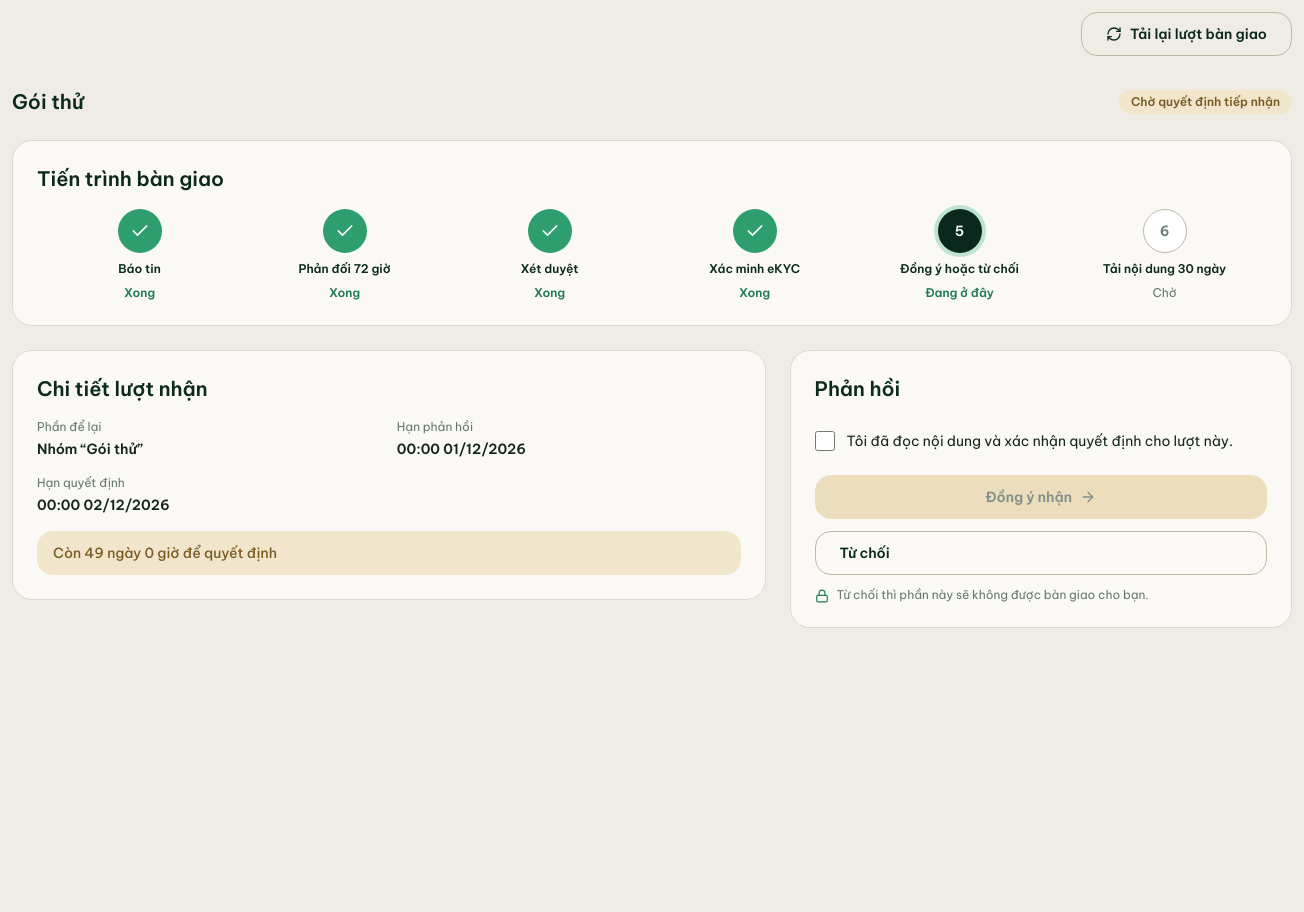
requires an explicit receiving decision and preserves absence of grant after server rejection
The width and height of the screenshot is (1304, 912).
Expected: the button "Đồng ý nhận" is disabled, [815,475,1267,519]
What coordinates should you click on to do the following:
click the checkbox
I would click on:
 (825, 441)
Its box is [815,431,835,451].
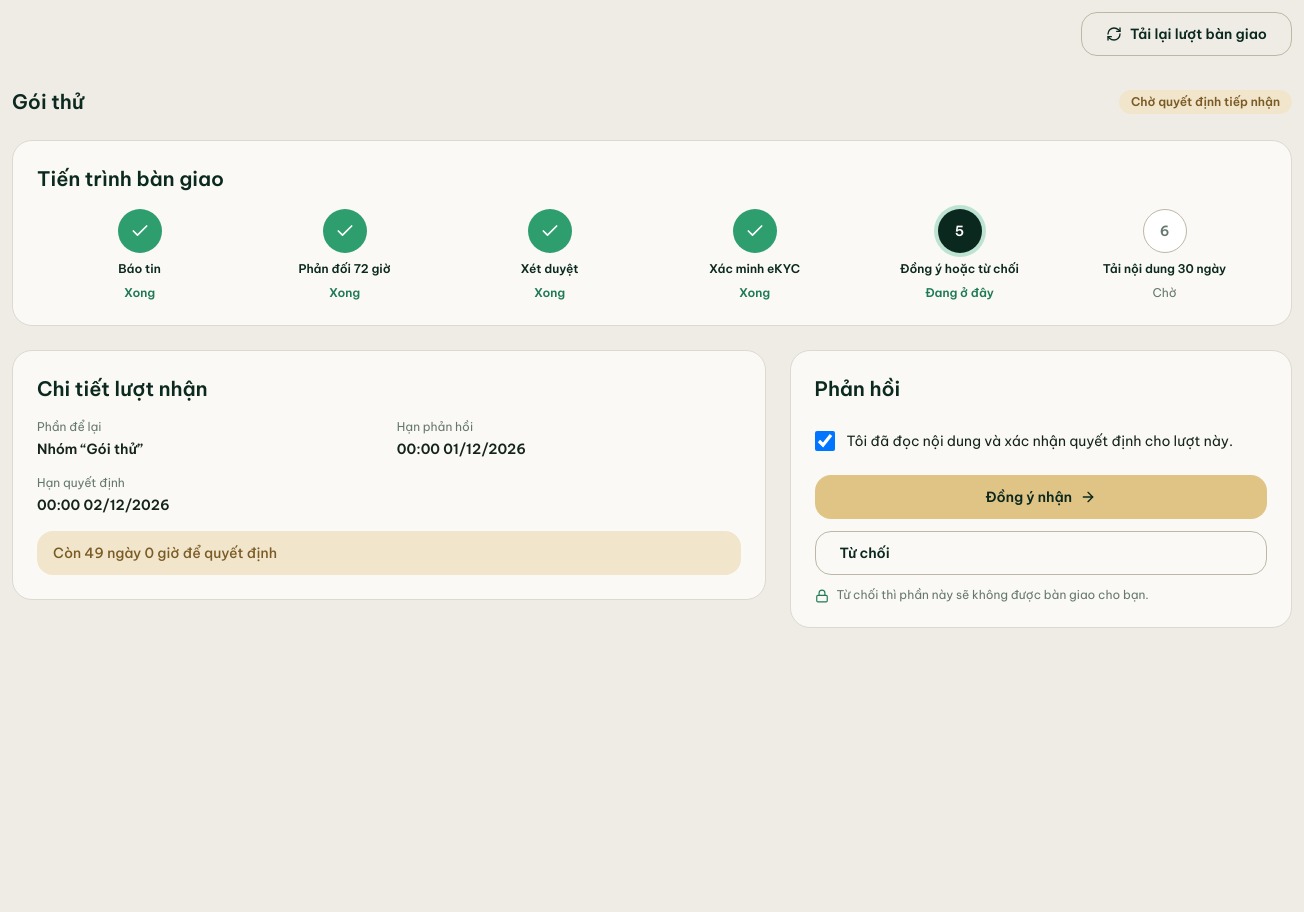
What coordinates should you click on to do the following:
click the button "Đồng ý nhận"
I would click on:
 (1041, 497)
Its box is [815,475,1267,519].
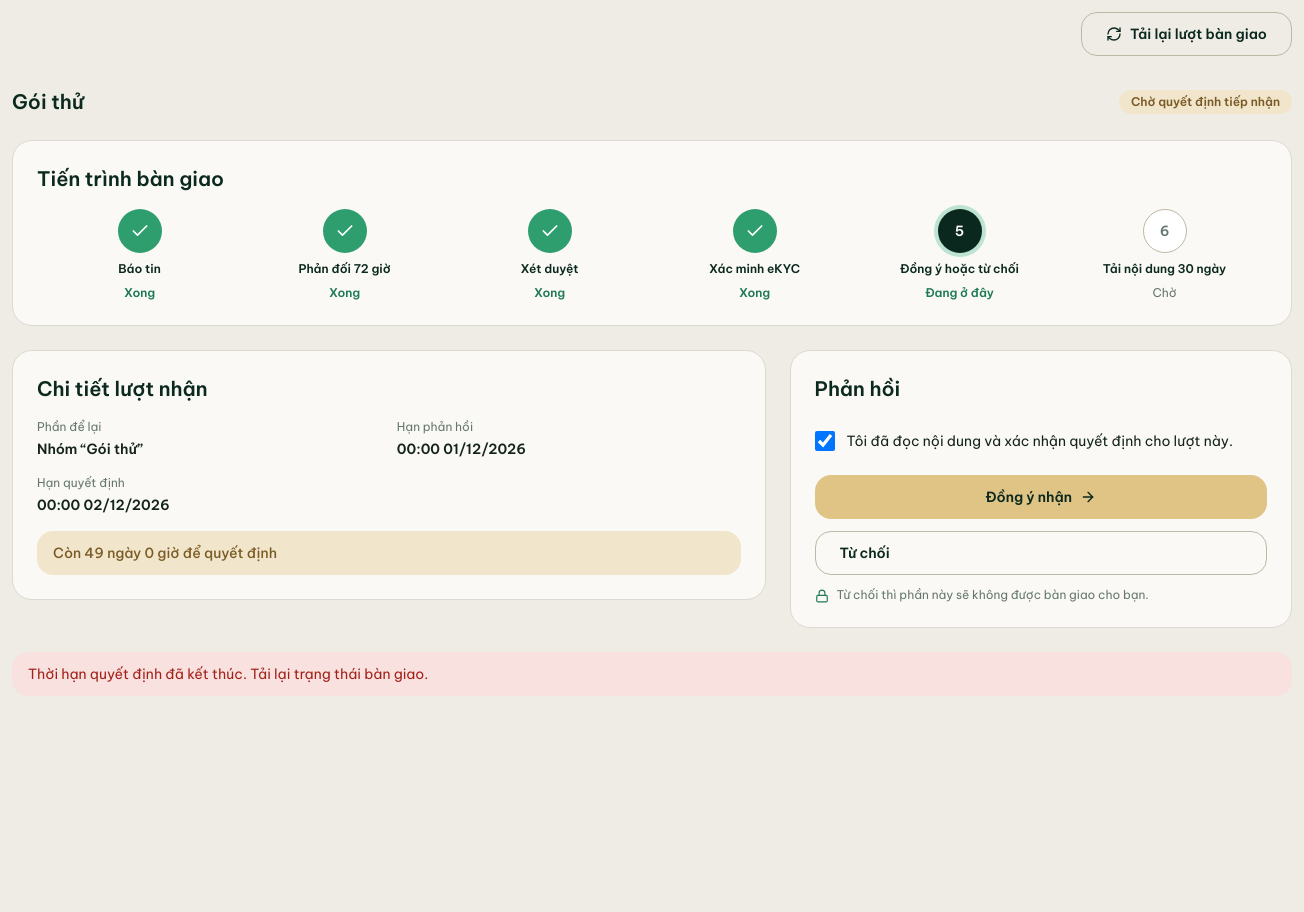
Now the message shows "Thời hạn quyết định đã kết thúc", box [28,665,428,683]
